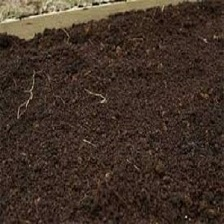loamy_soil: (18, 23, 208, 198)
